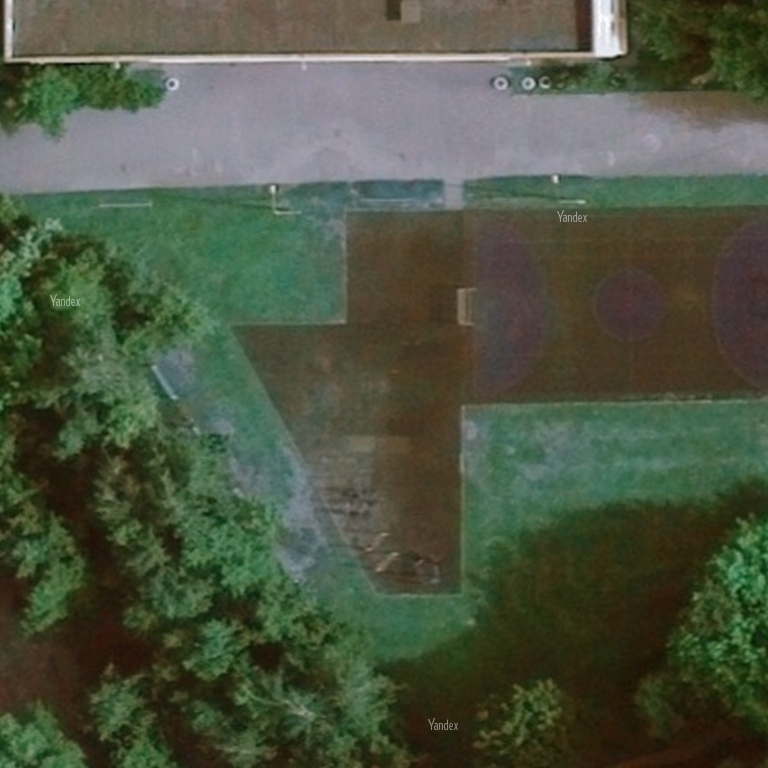basket_court: (441, 199, 765, 416)
